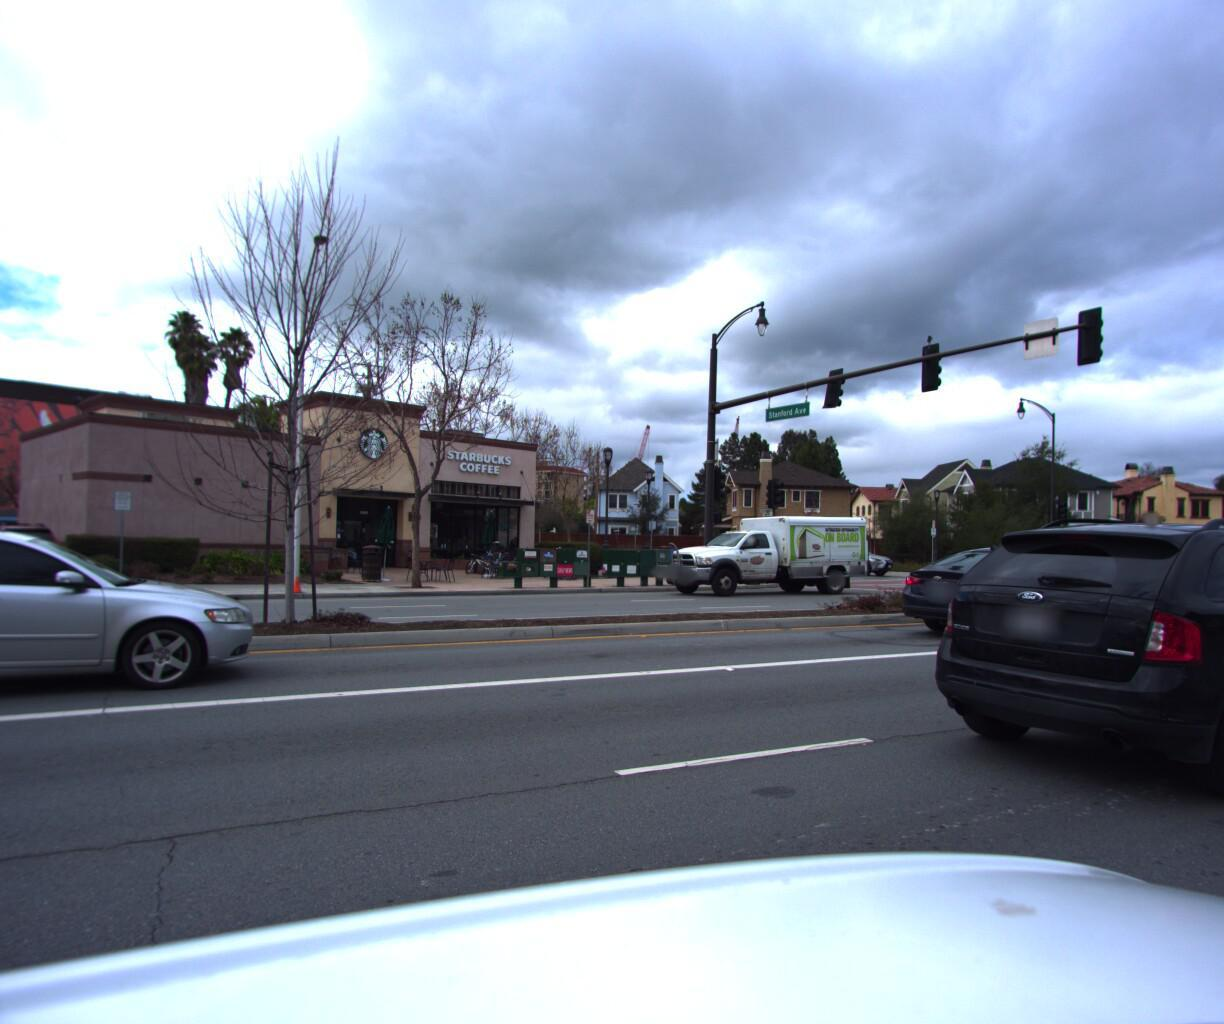car: (893, 494, 1224, 834), (0, 499, 272, 722), (884, 537, 1157, 641), (0, 516, 69, 576), (801, 539, 899, 573)
truck: (642, 501, 870, 592)
